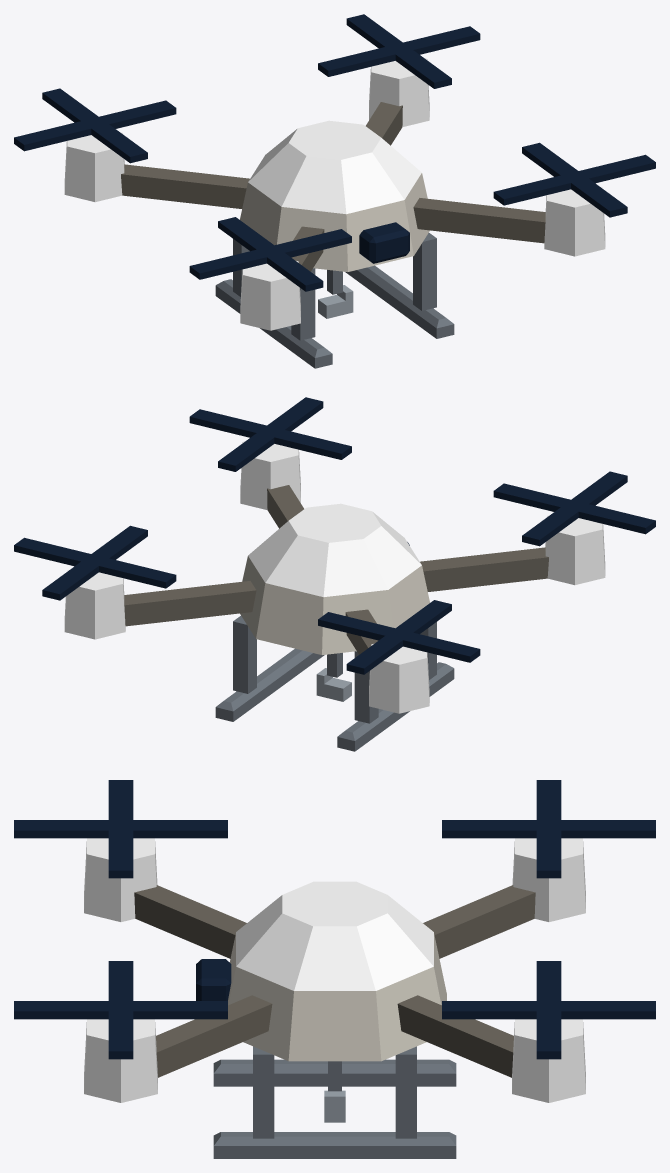
The model's file is drone.glb.
3 renders of one model, top to bottom at view 1: azimuth 30°, elevation 25°; view 2: azimuth 150°, elevation 25°; view 3: azimuth 270°, elevation 25°, orthographic. The views are drawn at different scales.
Parts seen in each view (by area): view 1: drone, drone_lane, rotor_fr, rotor_bl, rotor_br, rotor_fl, hook_head; view 2: drone, drone_lane, rotor_br, rotor_fl, rotor_fr, rotor_bl, hook_head; view 3: drone, drone_lane, rotor_bl, rotor_br, rotor_fl, rotor_fr, hook_head.
Boxes of the visible parts, left/top/right/bottom form: drone: left=121, top=102, right=545, bottom=368; drone_lane: left=64, top=58, right=605, bottom=330; rotor_fr: left=493, top=142, right=655, bottom=217; rotor_bl: left=14, top=88, right=176, bottom=163; rotor_br: left=318, top=14, right=480, bottom=88; rotor_fl: left=189, top=217, right=351, bottom=291; hook_head: left=318, top=285, right=353, bottom=318; drone: left=124, top=485, right=548, bottom=751; drone_lane: left=64, top=441, right=605, bottom=713; rotor_br: left=14, top=525, right=176, bottom=600; rotor_fl: left=493, top=471, right=655, bottom=546; rotor_fr: left=189, top=397, right=351, bottom=471; rotor_bl: left=318, top=600, right=480, bottom=674; hook_head: left=316, top=668, right=351, bottom=701; drone: left=134, top=885, right=535, bottom=1158; drone_lane: left=84, top=838, right=585, bottom=1102; rotor_bl: left=442, top=780, right=655, bottom=878; rotor_br: left=442, top=961, right=655, bottom=1059; rotor_fl: left=14, top=780, right=227, bottom=878; rotor_fr: left=14, top=961, right=227, bottom=1059; hook_head: left=324, top=1090, right=345, bottom=1122.
Size of the model in its own units: 0.9 by 0.33 by 0.9.
1 material, 1 textured.
